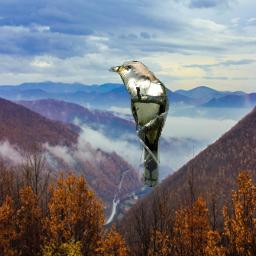Cuckoo: (109, 61, 170, 187)
